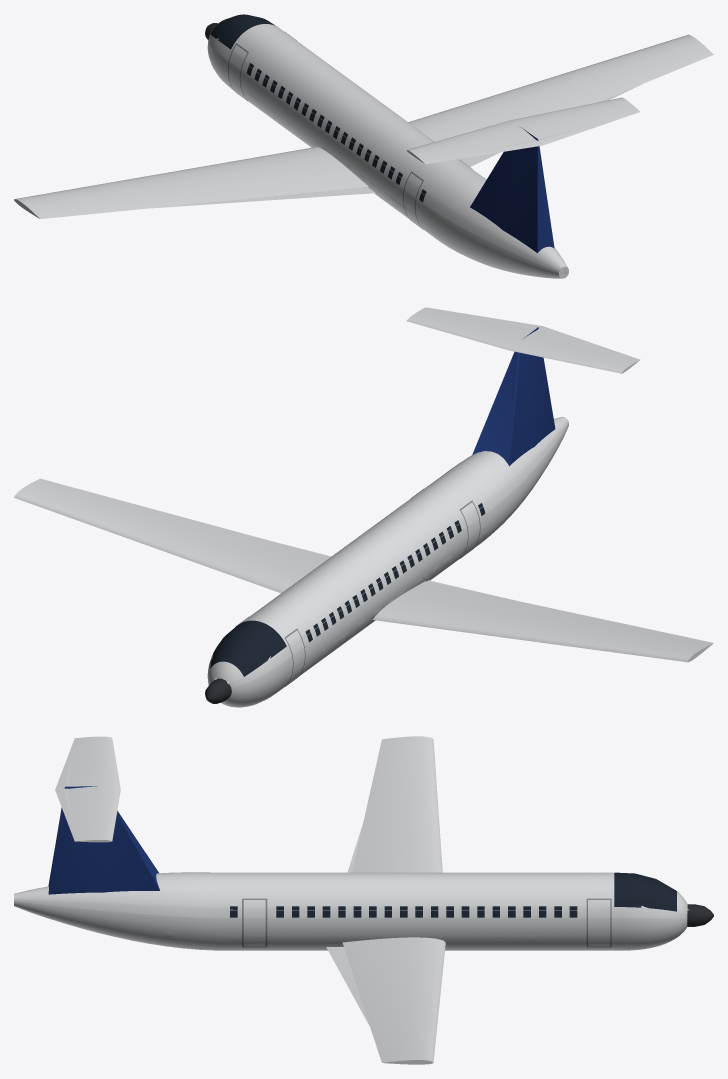
Rendered from lat_single_tp.dae.
3 views of the same model, one above another, from view 1: azimuth 30°, elevation 25°; view 2: azimuth 150°, elevation 25°; view 3: azimuth 270°, elevation 25° (orthographic).
Visible parts, largest first — view 1: lat_single_tp150, lat_single_tp1, lat_single_tp32; view 2: lat_single_tp150, lat_single_tp1, lat_single_tp32; view 3: lat_single_tp150, lat_single_tp1, lat_single_tp32.
Part boxes in pixels (left/top/right/bottom): lat_single_tp150: left=14, top=14, right=713, bottom=278; lat_single_tp1: left=152, top=84, right=641, bottom=253; lat_single_tp32: left=211, top=35, right=566, bottom=273; lat_single_tp150: left=14, top=307, right=713, bottom=707; lat_single_tp1: left=215, top=317, right=594, bottom=684; lat_single_tp32: left=210, top=483, right=693, bottom=681; lat_single_tp150: left=14, top=736, right=713, bottom=1064; lat_single_tp1: left=48, top=759, right=688, bottom=1026; lat_single_tp32: left=98, top=905, right=647, bottom=940.
Bounding box in the file's own units: 16.3 × 14.9 × 3.77.
